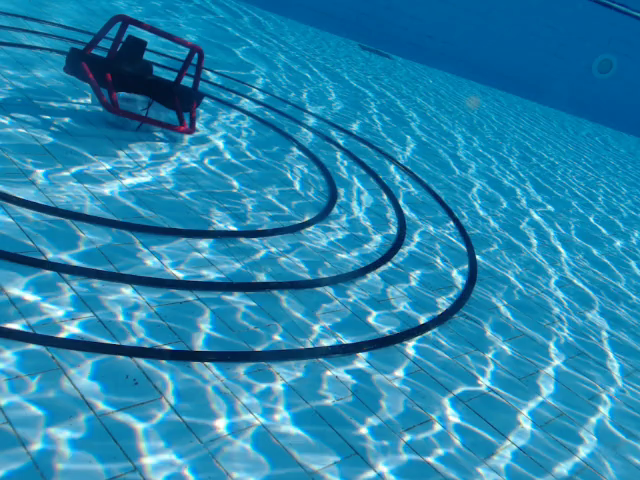submarine: (62, 14, 207, 138)
